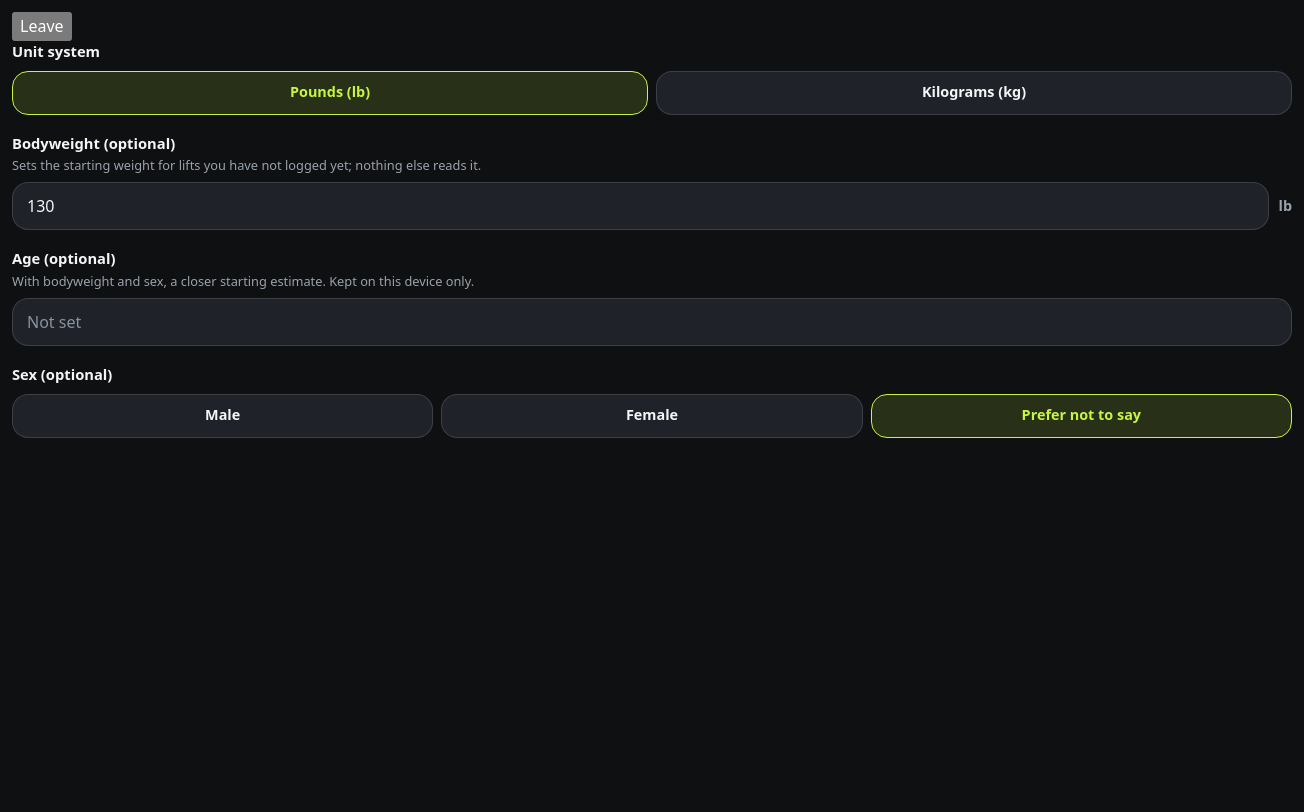
UnitsEditor after the review of item 40 › judges the next change against a bodyweight a units switch let in
Replace the text in the number field labelled "Bodyweight (optional)" with "55" at (640, 206), box [12, 182, 1268, 230]
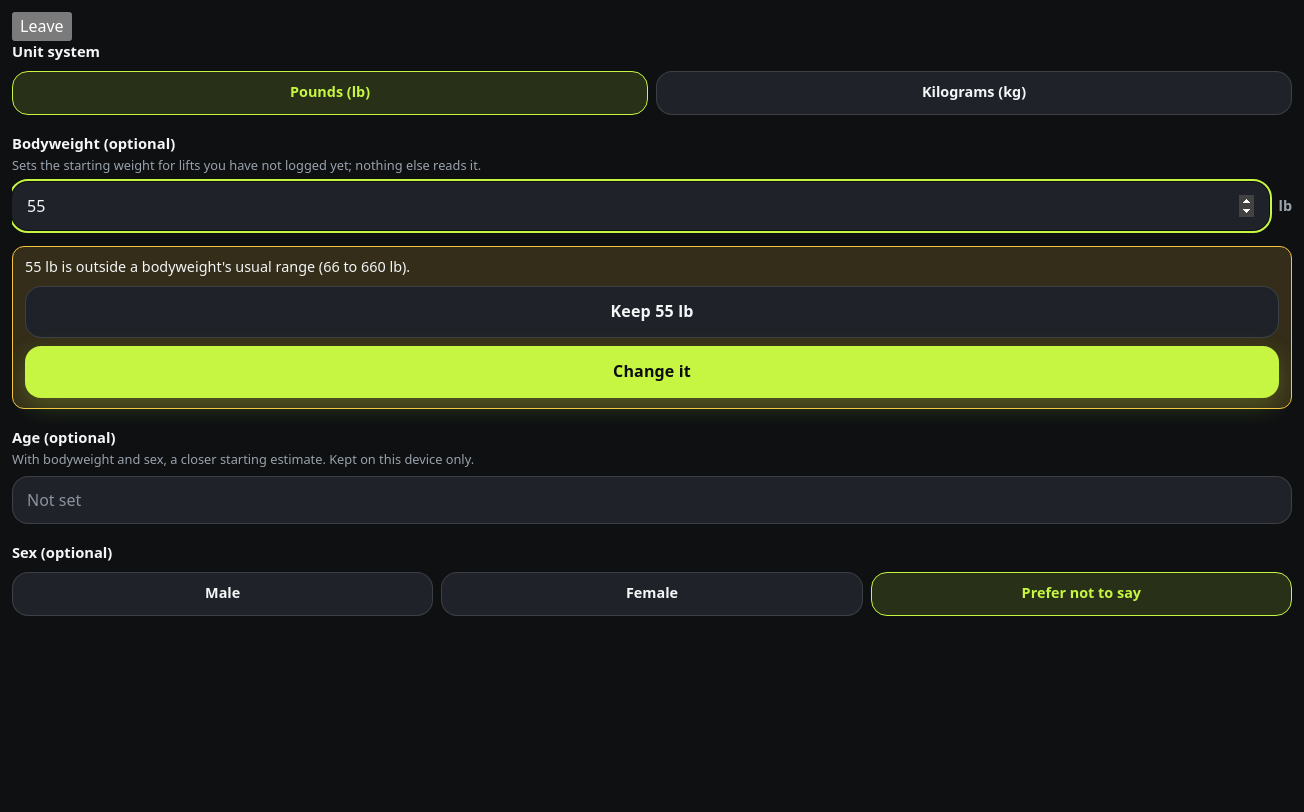
Expected: the message "55 lb is outside a bodyweight's usual range (66 to 660 lb)." is shown, [25, 257, 410, 276]
Click the radio button labelled "Kilograms (kg)" at (974, 92), box [656, 70, 1292, 114]
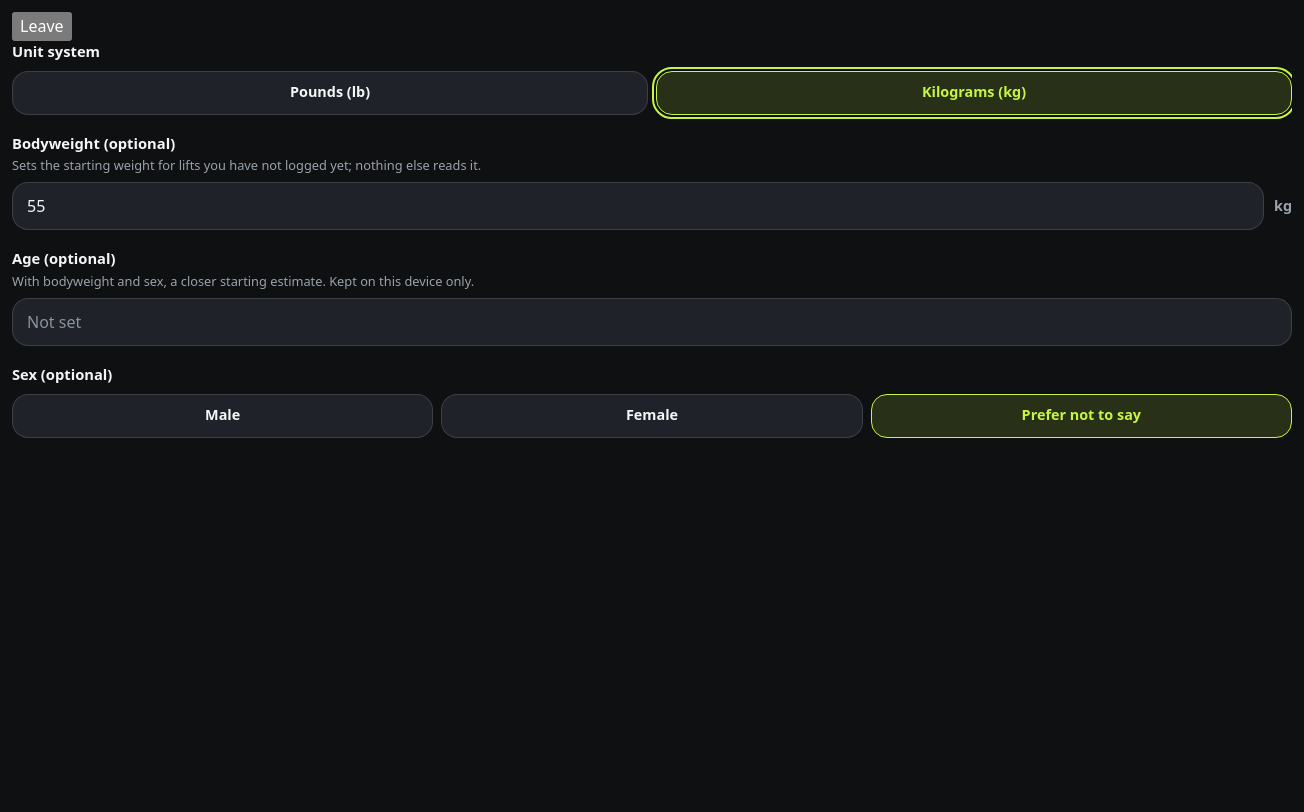
Replace the text in the number field labelled "Bodyweight (optional)" with "70" at (638, 206), box [12, 182, 1264, 230]
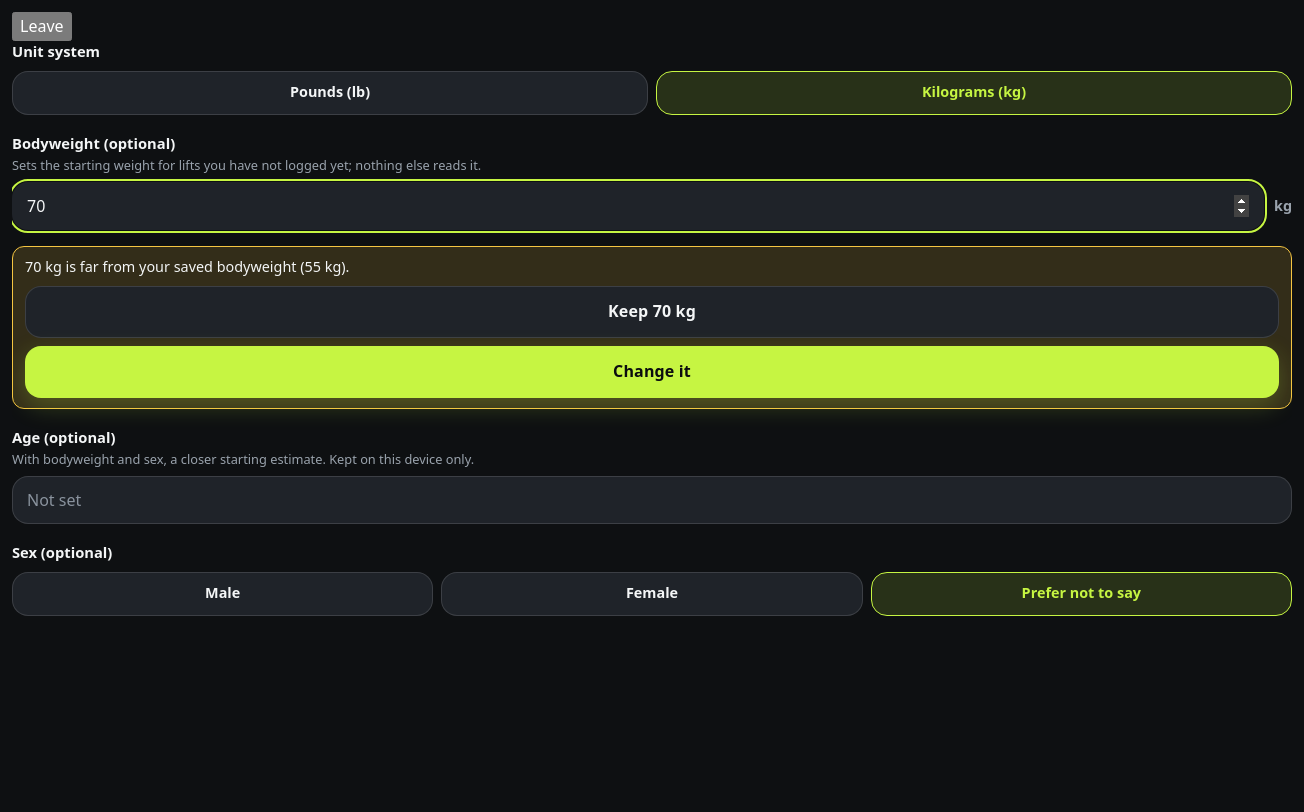
Expected: the message reads "70 kg is far from your saved bodyweight (55 kg).", [25, 257, 350, 276]
